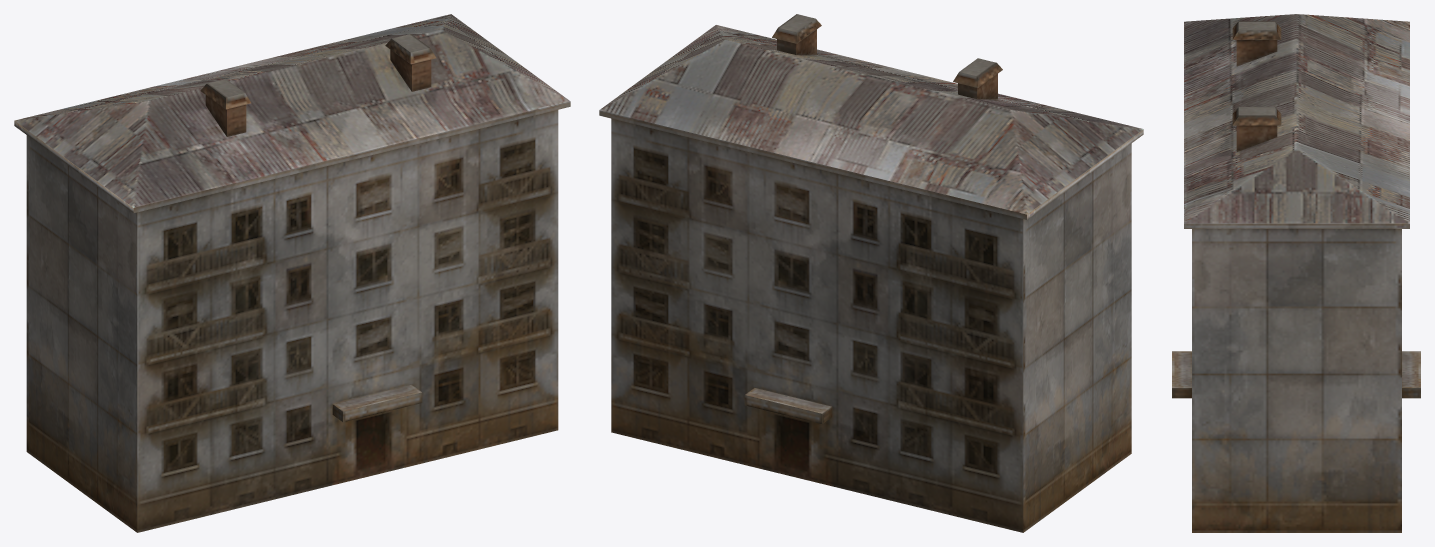
File: TD_Building_03.fbx
3 renders of one model, left to right at view 1: azimuth 30°, elevation 25°; view 2: azimuth 150°, elevation 25°; view 3: azimuth 270°, elevation 25°, orthographic. The views are drawn at different scales.
Parts seen in each view (by area): view 1: Building_03; view 2: Building_03; view 3: Building_03.
Boxes of the visible parts, box(x1,y1,x2,y2) form: Building_03: box(14, 14, 570, 532); Building_03: box(599, 14, 1143, 532); Building_03: box(1172, 14, 1420, 532).
Size of what is drawn, in the model's own units: 2182 by 1859 by 1136.
